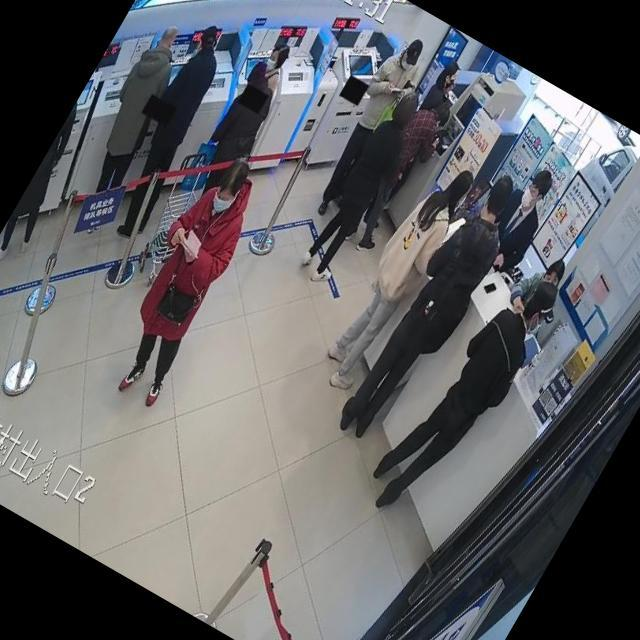person: (360, 250, 570, 536), (332, 166, 533, 457), (84, 144, 284, 413), (312, 156, 482, 401), (90, 19, 251, 246), (294, 85, 436, 290), (338, 57, 476, 259), (298, 28, 436, 225), (67, 18, 203, 204), (0, 96, 107, 269), (182, 58, 294, 208), (470, 160, 567, 284), (221, 42, 306, 158), (502, 248, 574, 330), (39, 85, 98, 174)
